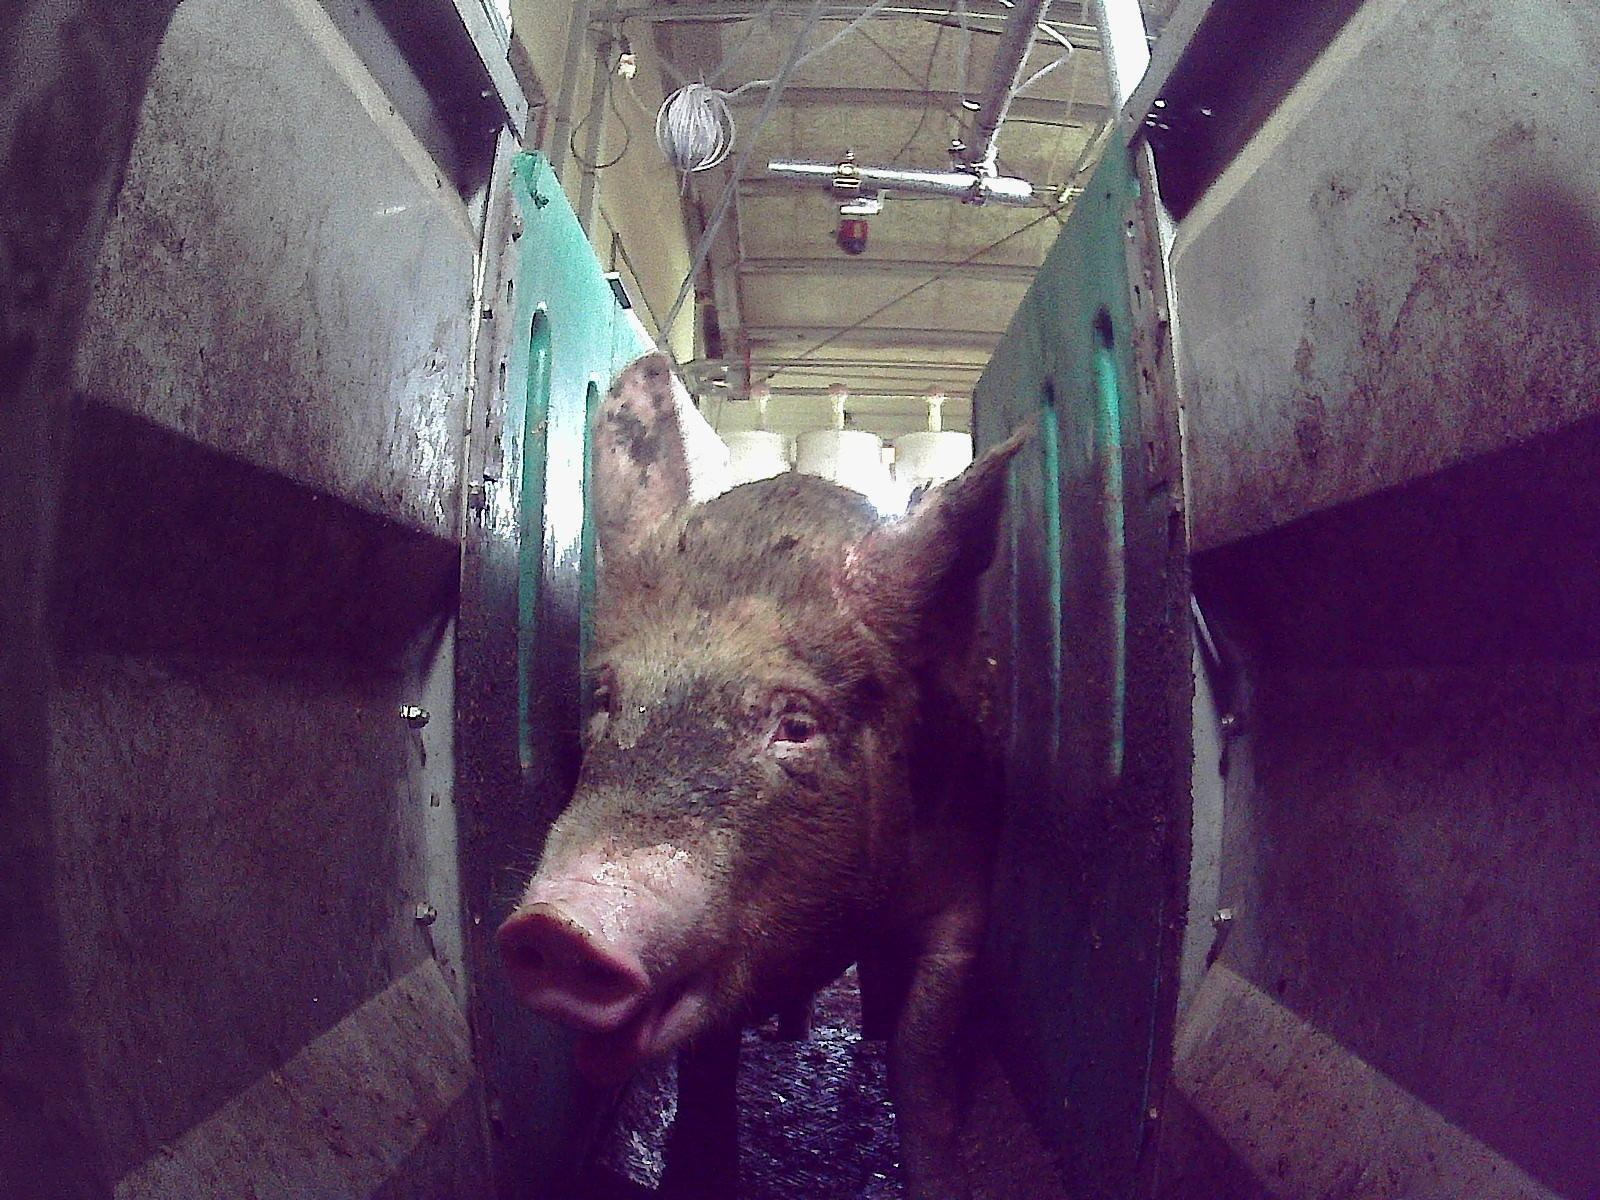Face: (494, 517, 892, 1081)
